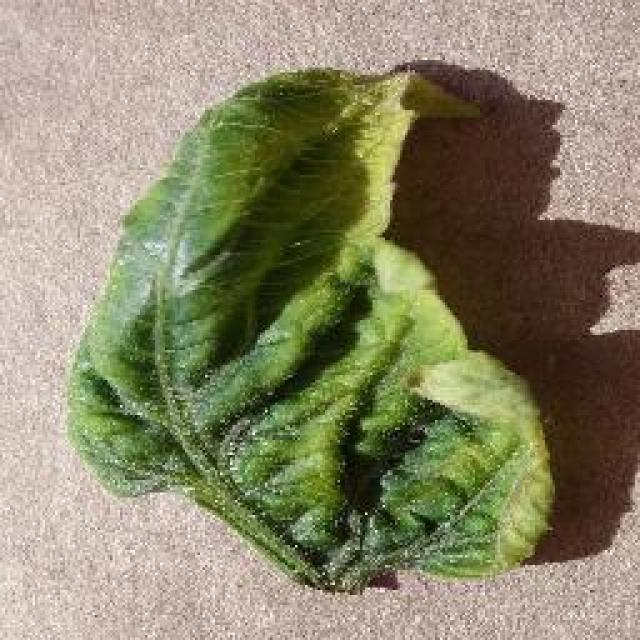Tomato yellow virus leaf: (57, 62, 552, 600)
